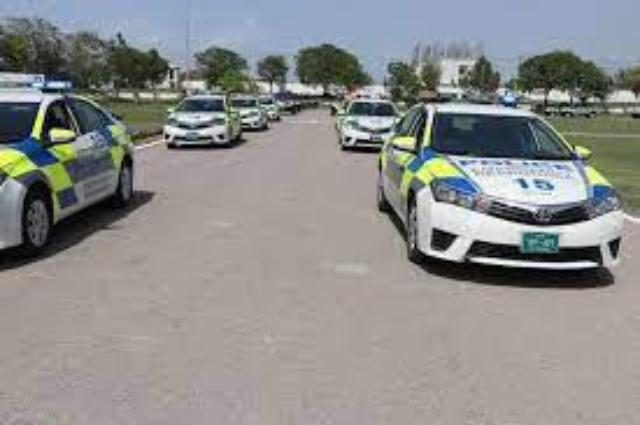police: (370, 95, 631, 289), (2, 67, 137, 261)
